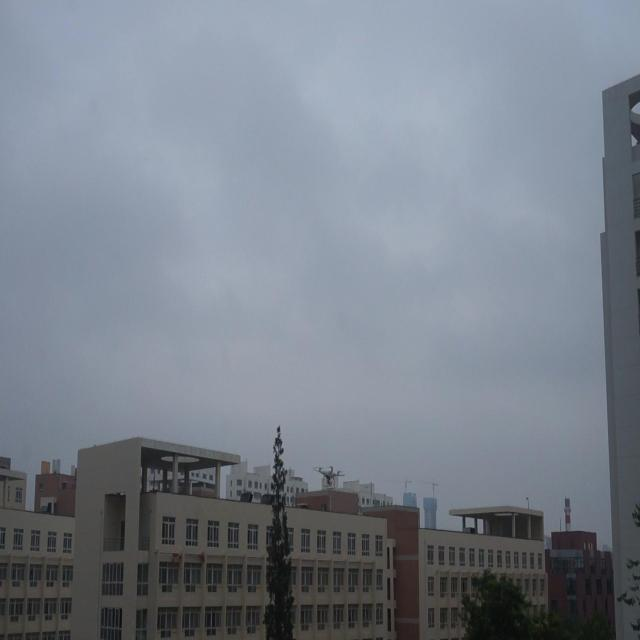drone: (312, 462, 344, 491)
